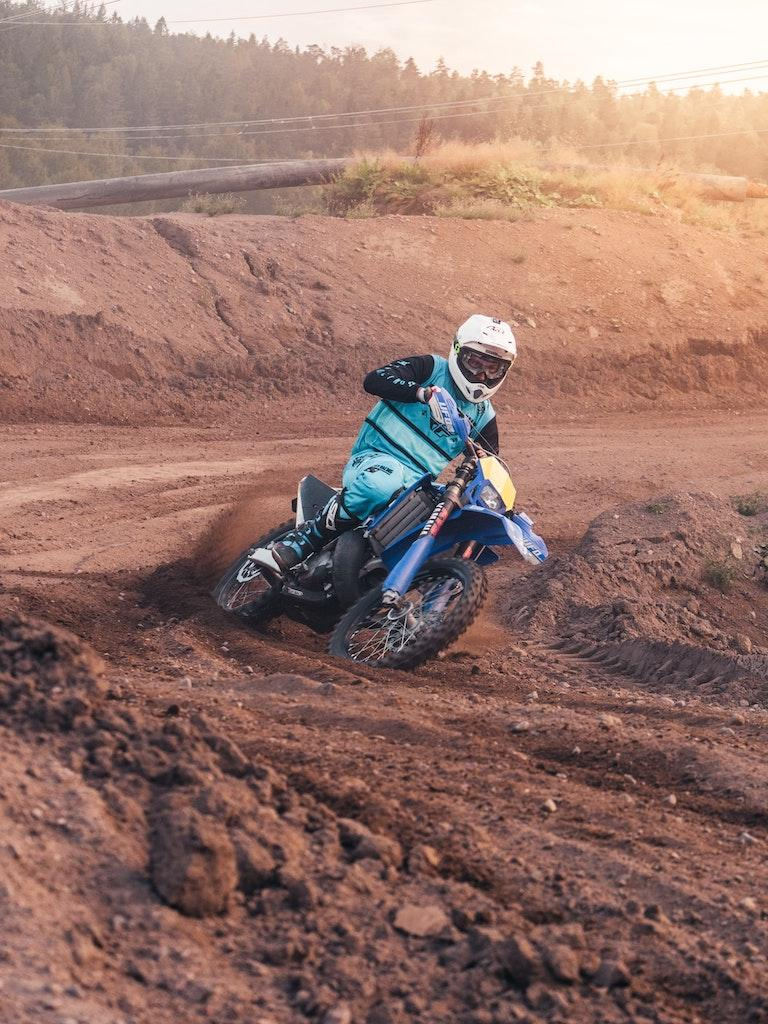helmet: (447, 313, 518, 405)
